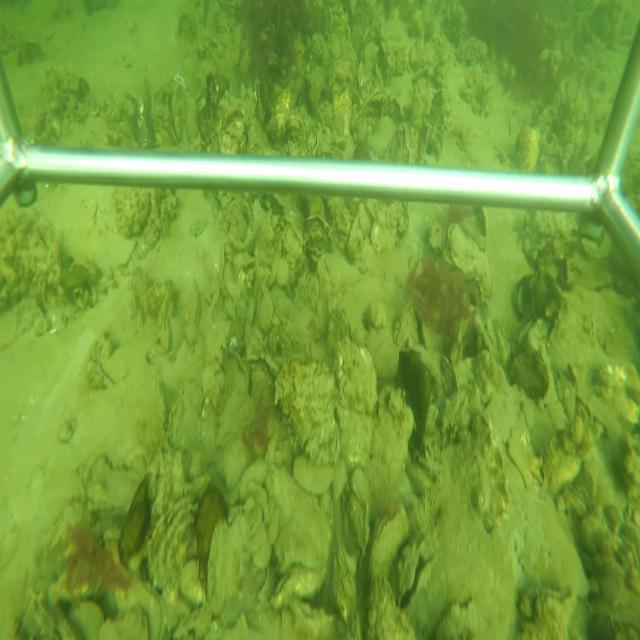Oyster-Closed: (205, 504, 256, 619), (401, 344, 439, 431), (369, 506, 410, 580), (445, 221, 491, 282), (328, 537, 359, 625), (270, 563, 324, 610), (127, 265, 148, 319), (346, 213, 365, 264), (421, 321, 433, 349)
Oyster-Indeterminate: (145, 486, 199, 587), (333, 335, 378, 414), (288, 451, 335, 498), (185, 277, 201, 339)
Oyster-Open: (399, 536, 437, 615), (164, 78, 183, 145)
